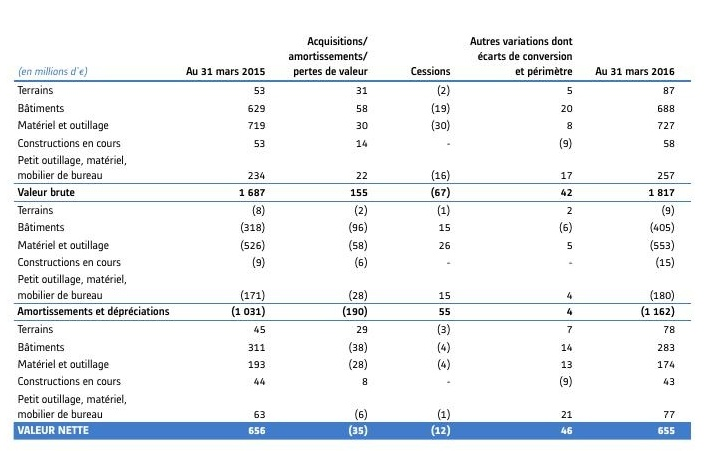table: (0, 0, 705, 451)
